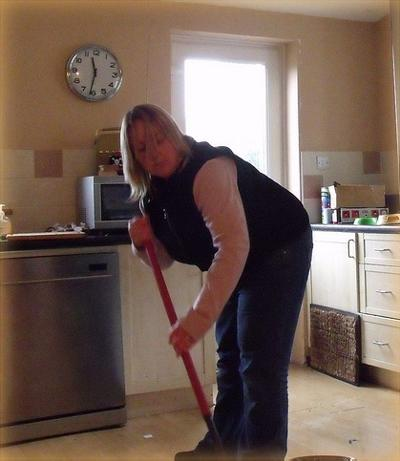person: (121, 105, 315, 460)
